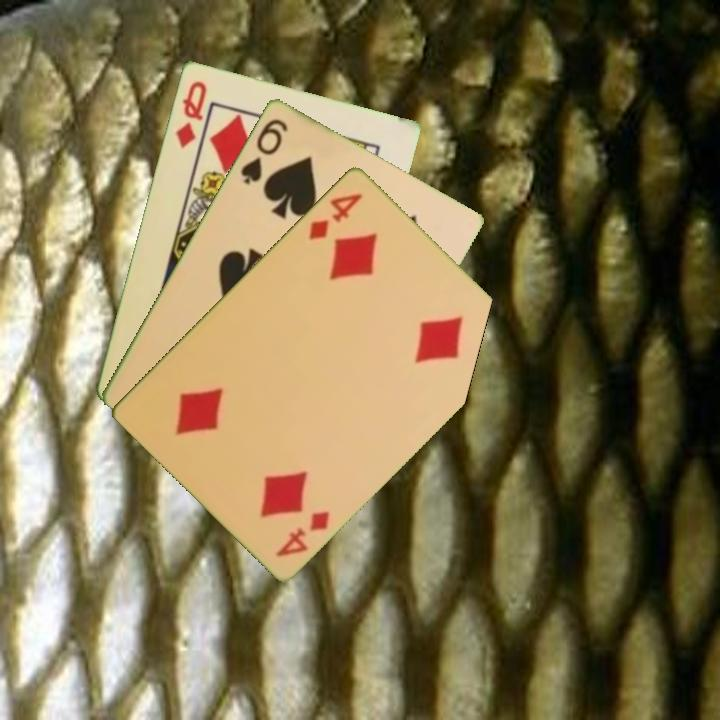4d: (304, 189, 366, 242), (273, 506, 333, 560)
6s: (236, 114, 291, 187)
Qd: (172, 77, 209, 151)
